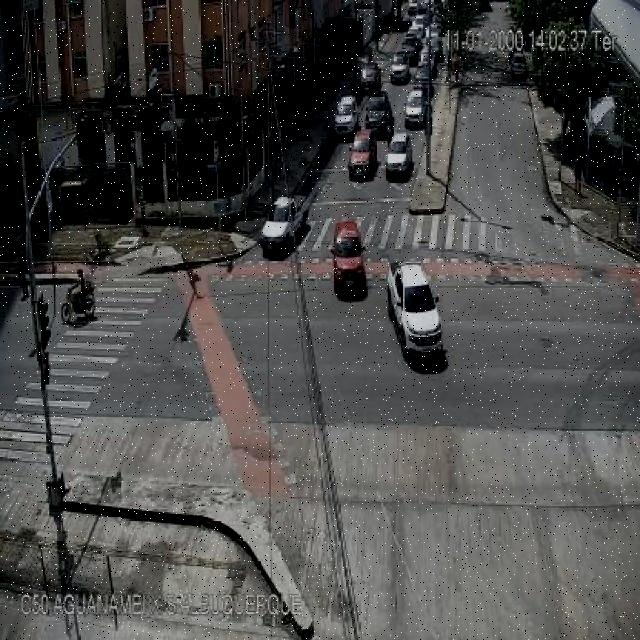Car: (386, 261, 443, 357), (260, 195, 308, 256), (331, 220, 367, 298), (379, 136, 417, 186), (348, 128, 378, 178), (363, 92, 394, 137), (334, 94, 359, 137), (404, 89, 428, 128), (359, 62, 381, 94), (389, 54, 412, 84), (396, 41, 418, 68), (511, 48, 528, 81), (414, 62, 435, 87)
Cycle: (57, 282, 100, 321)
